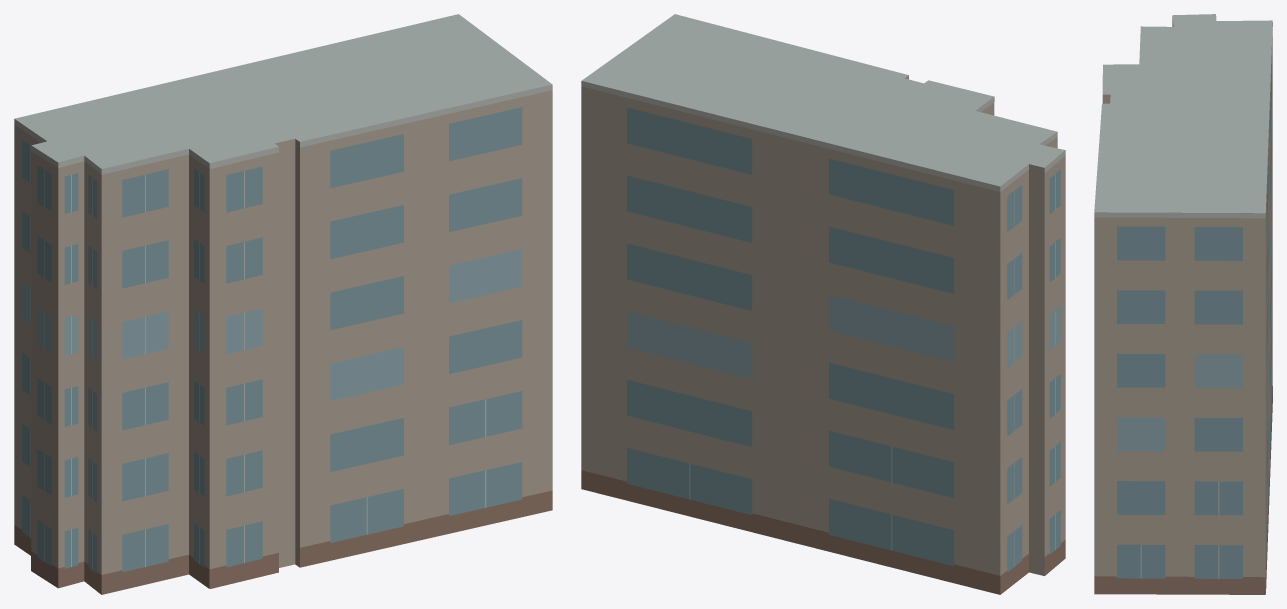
Rendered from survey-upis-32661187.glb.
3 views of the same model, side by side, from view 1: azimuth 30°, elevation 25°; view 2: azimuth 150°, elevation 25°; view 3: azimuth 270°, elevation 25° (orthographic). The views are drawn at different scales.
Parts seen in each view (by area): view 1: survey-upis-32661187.tmp; view 2: survey-upis-32661187.tmp; view 3: survey-upis-32661187.tmp.
Part boxes in pixels (bbox=[...]): survey-upis-32661187.tmp: bbox=[14, 14, 552, 594]; survey-upis-32661187.tmp: bbox=[581, 14, 1065, 594]; survey-upis-32661187.tmp: bbox=[1094, 14, 1272, 594].
Size of the model in its own units: 20.49 by 18.3 by 7.77.
